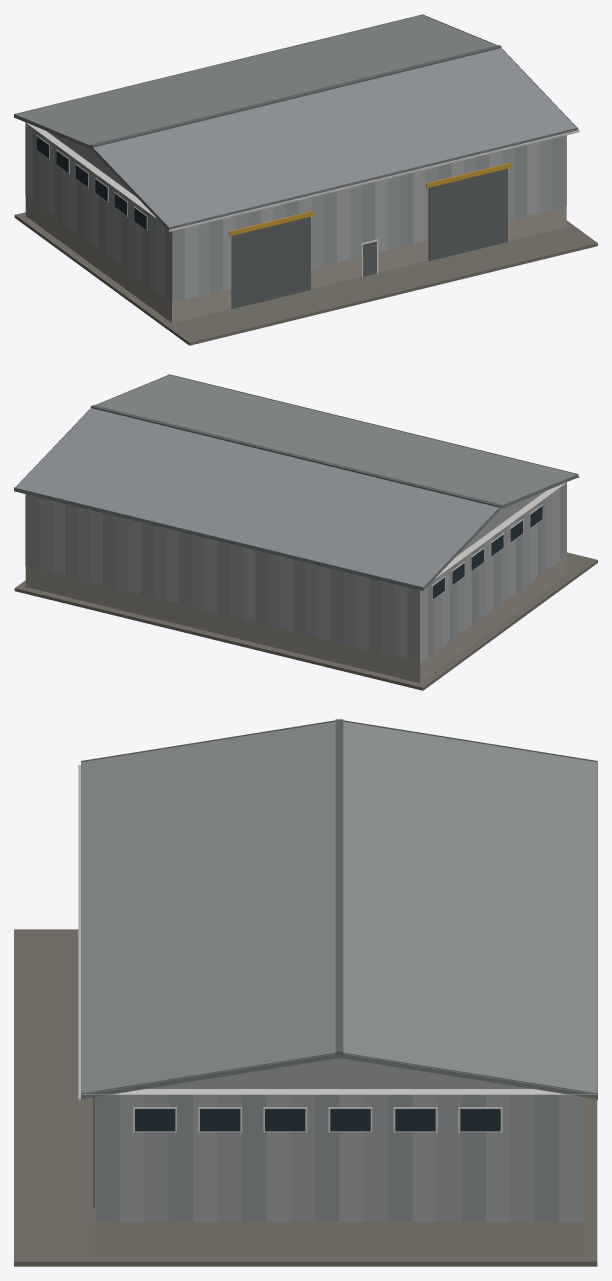
Rendered from ns_warehouse_lod1.glb.
3 renders of one model, top to bottom at view 1: azimuth 30°, elevation 25°; view 2: azimuth 150°, elevation 25°; view 3: azimuth 270°, elevation 25°, orthographic. The views are drawn at different scales.
Parts seen in each view (by area): view 1: ns_warehouse_lod1; view 2: ns_warehouse_lod1; view 3: ns_warehouse_lod1.
Boxes of the visible parts, x1,y1,x2,y2 form: ns_warehouse_lod1: [14, 14, 597, 345]; ns_warehouse_lod1: [14, 374, 597, 690]; ns_warehouse_lod1: [14, 719, 597, 1266].
Size of the model in its own units: 29.12 by 8.75 by 21.53.
